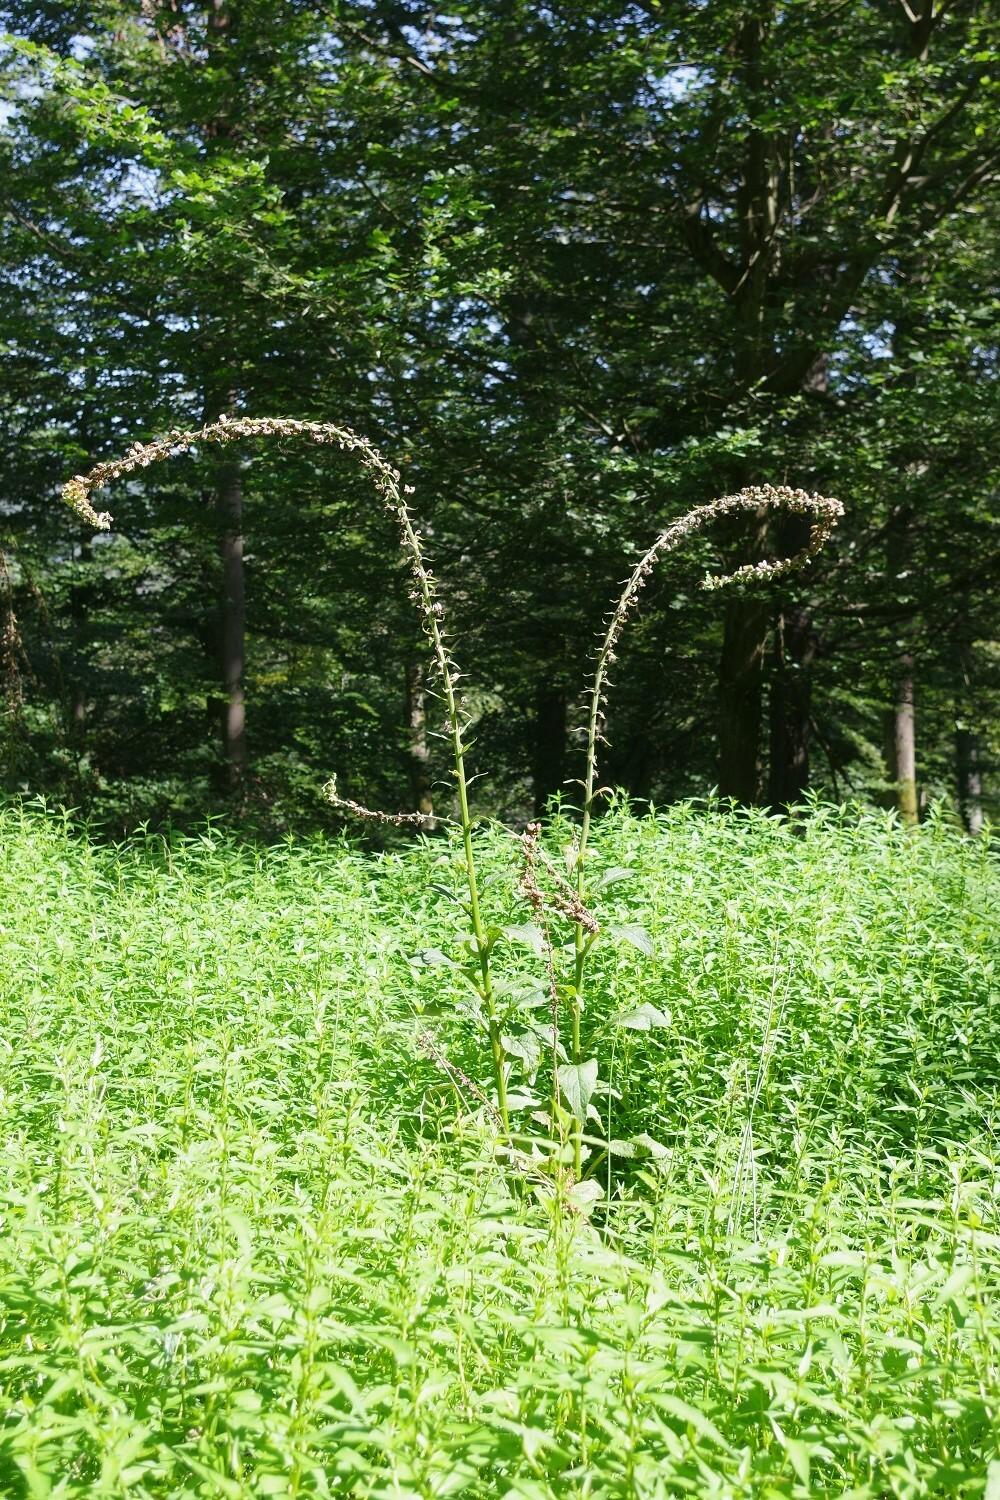Digitalis L: (577, 479, 854, 662), (47, 407, 415, 535)
